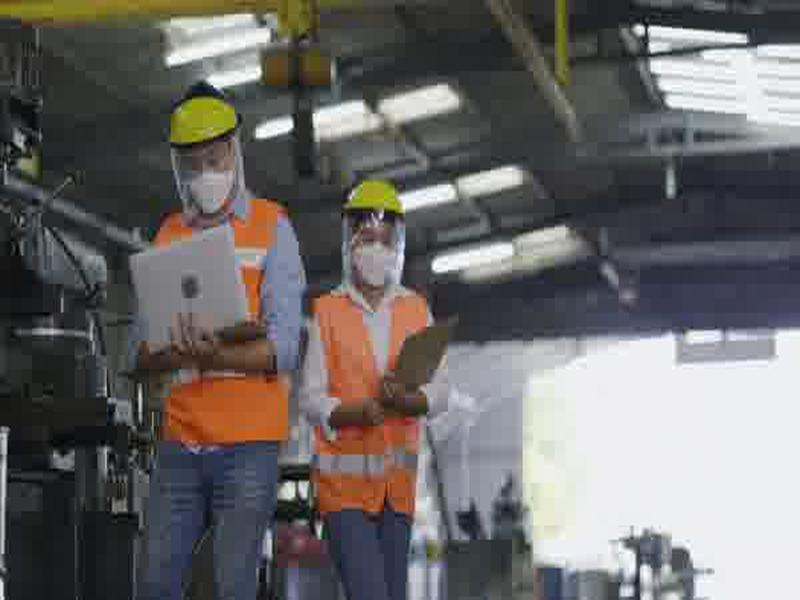hard-hat: (163, 80, 245, 164), (338, 175, 411, 228)
